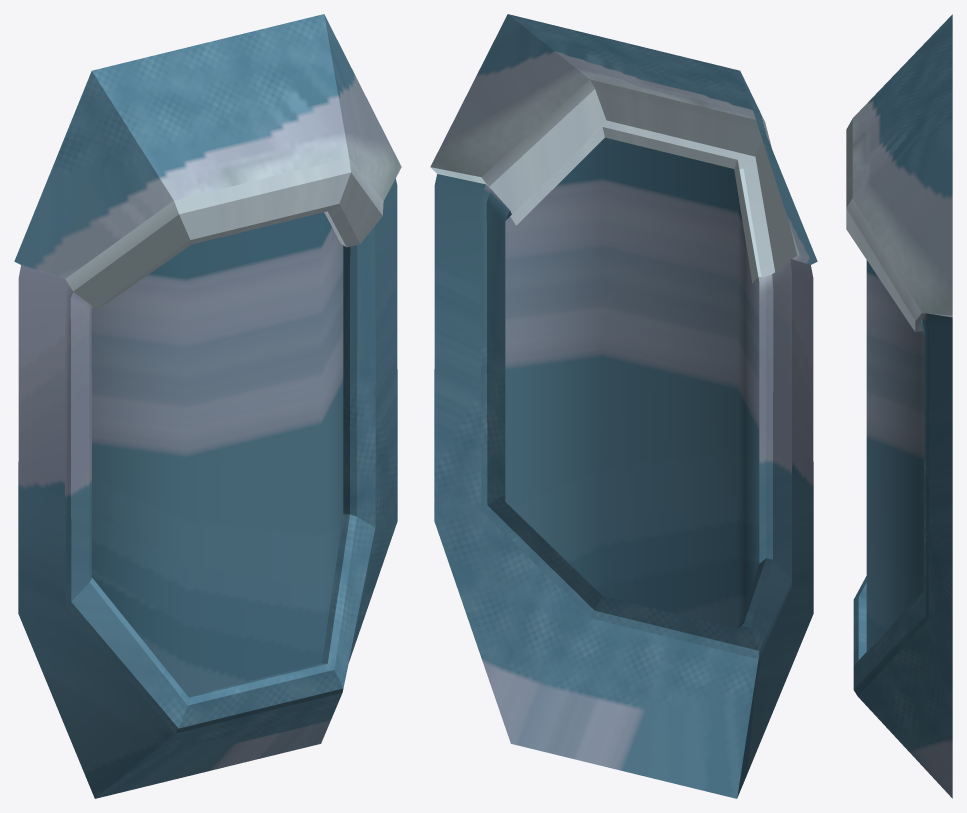
Rendered from SM_Cryo_Chamber.fbx.
3 views of the same model, side by side, from view 1: azimuth 30°, elevation 25°; view 2: azimuth 150°, elevation 25°; view 3: azimuth 270°, elevation 25° (orthographic). The views are drawn at different scales.
Visible parts, largest first — view 1: SM_Cryo_Chamber; view 2: SM_Cryo_Chamber; view 3: SM_Cryo_Chamber.
Part boxes in pixels (left/top/right/bottom): SM_Cryo_Chamber: left=14, top=14, right=401, bottom=798; SM_Cryo_Chamber: left=430, top=14, right=817, bottom=798; SM_Cryo_Chamber: left=846, top=14, right=952, bottom=798.
Bounding box in the file's own units: 3.46 × 6.21 × 0.8817.
